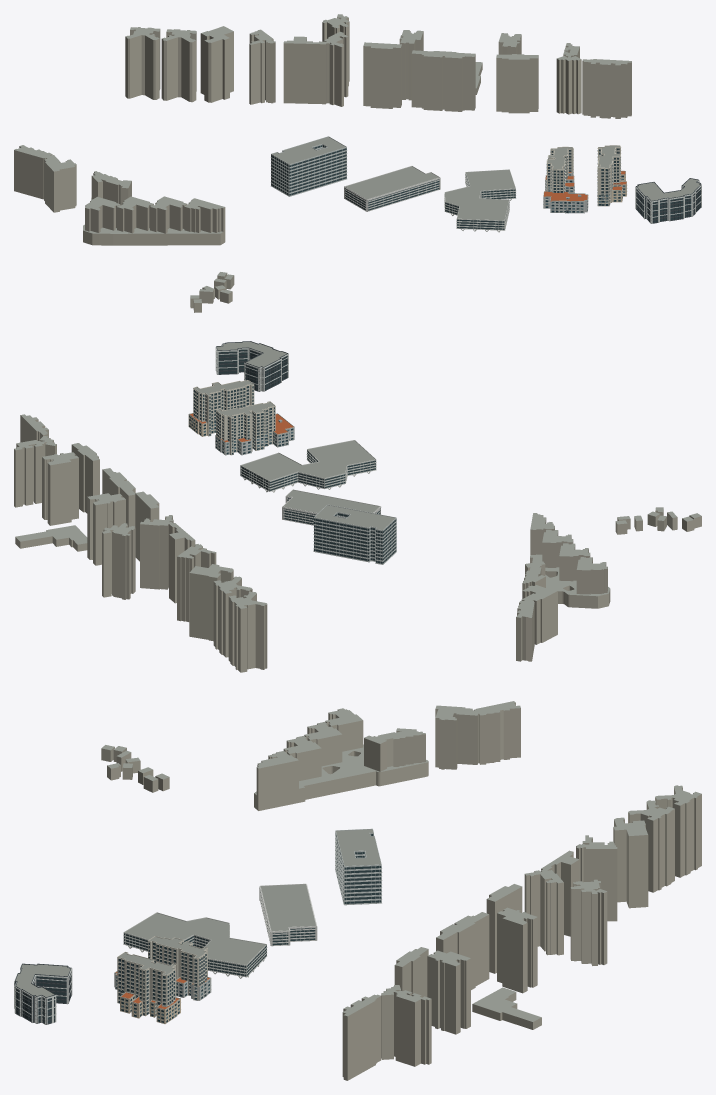
The model's file is zone_0_1-high.glb.
3 renders of one model, top to bottom at view 1: azimuth 30°, elevation 25°; view 2: azimuth 150°, elevation 25°; view 3: azimuth 270°, elevation 25°, orthographic. The views are drawn at different scales.
Parts seen in each view (by area): view 1: web_building_914973821, web_building_2532440, web_building_1424777851, web_building_1058569050, web_building_914973844, web_building_1328114548, web_building_914973820, web_building_914973822, web_building_914897042, web_building_914897043, web_building_773906092, web_building_914900394 (+16 smaller); view 2: web_building_1424777851, web_building_2532440, web_building_914897043, web_building_194547399, web_building_914973813, web_building_1058569050, web_building_914900392, web_building_667717927, web_building_914900394, web_building_773906092, web_building_914973842, web_building_667717925 (+17 smaller); view 3: web_building_1058569050, web_building_1424777851, web_building_15728037, web_building_914973842, web_building_914973813, web_building_2532440, web_building_914973819, web_building_914900392, web_building_1328114548, web_building_194547399, web_building_914973844, web_building_773906092 (+18 smaller).
Part boxes in pixels (x1,y1,x2,y2): web_building_914973821: (411, 50, 475, 111); web_building_2532440: (271, 136, 347, 196); web_building_1424777851: (444, 169, 516, 232); web_building_1058569050: (14, 145, 76, 212); web_building_914973844: (582, 59, 631, 118); web_building_1328114548: (344, 166, 440, 211); web_building_914973820: (363, 42, 401, 108); web_building_914973822: (496, 54, 538, 113); web_building_914897042: (161, 29, 196, 102); web_building_914897043: (125, 27, 160, 99); web_building_773906092: (200, 26, 233, 102); web_building_914900394: (315, 31, 348, 106); web_building_1424777851: (240, 440, 376, 492); web_building_2532440: (313, 504, 396, 564); web_building_914897043: (228, 591, 267, 672); web_building_194547399: (215, 341, 288, 391); web_building_914973813: (42, 452, 78, 525); web_building_1058569050: (516, 585, 557, 661); web_building_914900392: (102, 523, 135, 599); web_building_667717927: (216, 401, 275, 455); web_building_914900394: (140, 515, 179, 589); web_building_773906092: (189, 564, 233, 641); web_building_914973842: (14, 436, 56, 507); web_building_667717925: (193, 380, 254, 436); web_building_1058569050: (435, 701, 520, 769); web_building_1424777851: (123, 912, 267, 978); web_building_15728037: (254, 744, 428, 810); web_building_914973842: (381, 985, 431, 1066); web_building_914973813: (427, 950, 470, 1034); web_building_2532440: (335, 828, 382, 905); web_building_914973819: (497, 907, 537, 993); web_building_914900392: (570, 879, 607, 965); web_building_1328114548: (259, 883, 317, 946); web_building_194547399: (14, 963, 72, 1024); web_building_914973844: (342, 994, 381, 1080); web_building_773906092: (613, 817, 648, 908).
Bounding box in the file's own units: 606 × 70.47 × 546.
